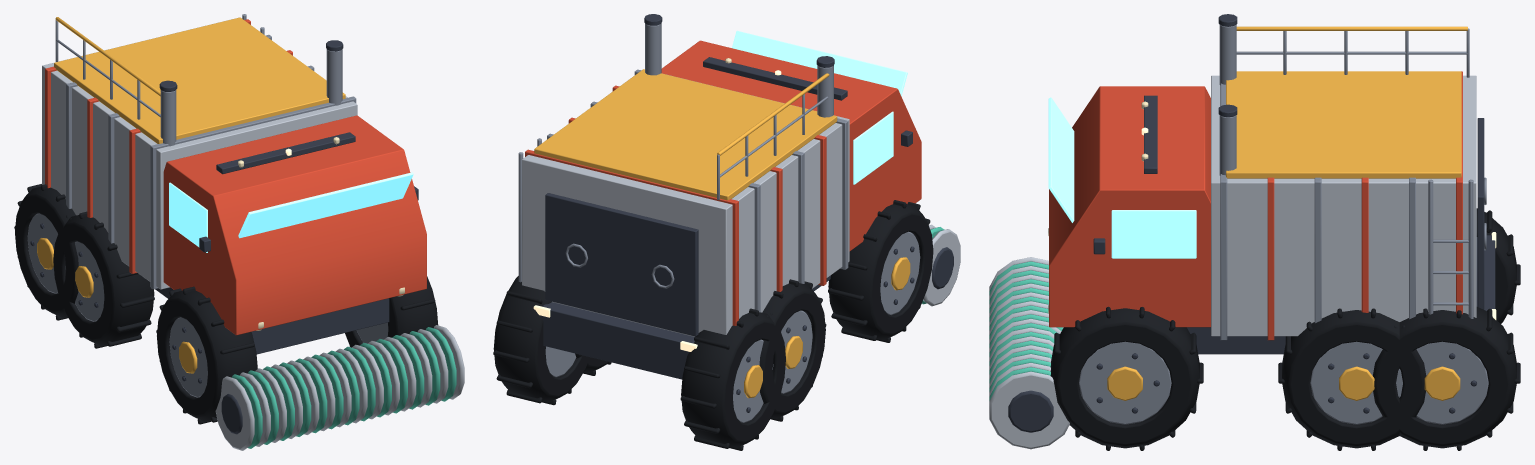
Rendered from truck.fbx.
3 renders of one model, left to right at view 1: azimuth 30°, elevation 25°; view 2: azimuth 150°, elevation 25°; view 3: azimuth 270°, elevation 25°, orthographic. The views are drawn at different scales.
Parts seen in each view (by area): view 1: truck_Koerper, truck, truck_Werkzeug; view 2: truck_Koerper, truck, truck_Werkzeug; view 3: truck_Koerper, truck, truck_Werkzeug.
Boxes of the visible parts, <box> form: truck_Koerper: <box>42,14,426,354</box>; truck: <box>14,184,438,424</box>; truck_Werkzeug: <box>215,325,464,450</box>; truck_Koerper: <box>518,14,921,379</box>; truck: <box>493,200,933,450</box>; truck_Werkzeug: <box>922,224,960,306</box>; truck_Koerper: <box>1048,14,1496,354</box>; truck: <box>1050,208,1520,450</box>; truck_Werkzeug: <box>989,257,1069,449</box>.
Size of the model in its own units: 2.49 by 3.16 by 4.61.
